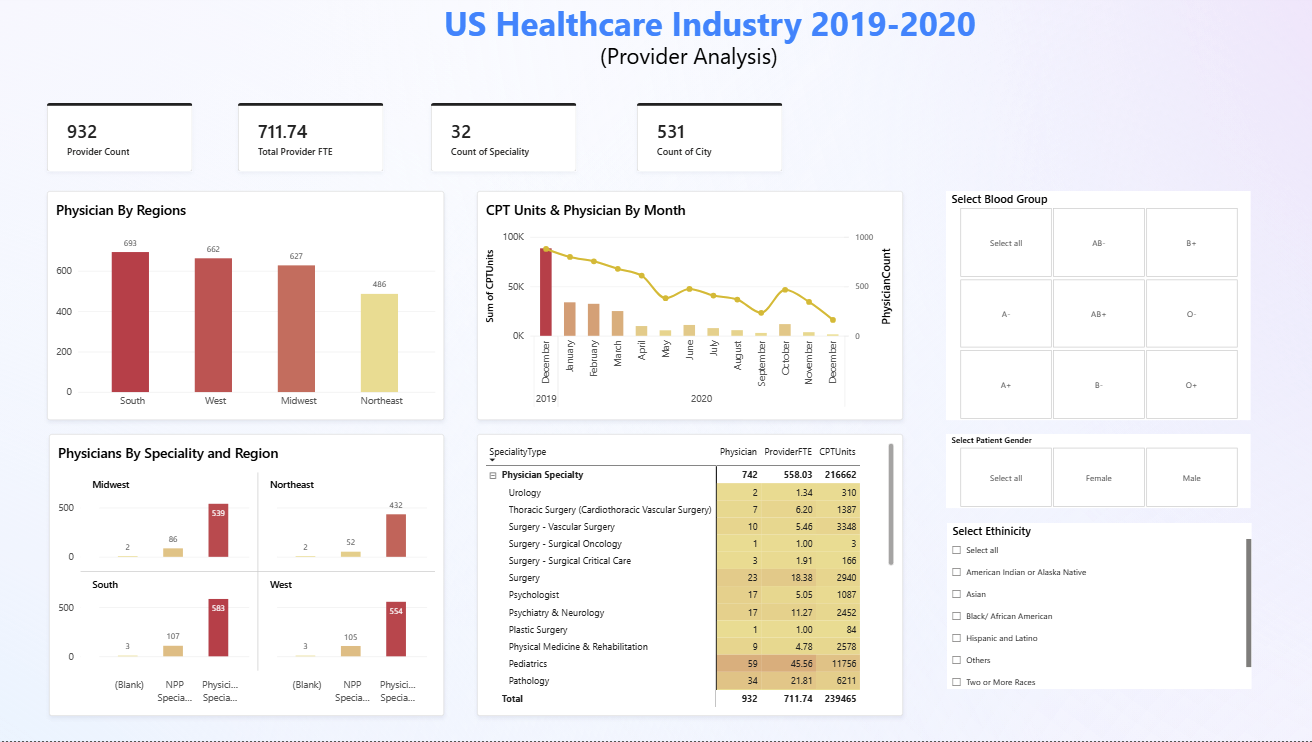

The page's visual inventory and layout, read from the dashboard file:
{"tool":"powerbi","page":{"name":"Provider Analysis","canvas":[1920,1080],"ordinal":3},"visuals":[{"type":"cardVisual","fields":{"Data":["CountNonNull(DimPhyscian.dimPhysicianPK)"]},"box":[74.3,150.1,213,100.3],"z":0},{"type":"textbox","box":[652.8,0,869.1,84.2],"z":1000},{"type":"textbox","box":[880.3,58.3,297.3,72.9],"z":2000},{"type":"cardVisual","fields":{"Data":["Sum(DimPhyscian.ProviderFTE)"]},"box":[352.7,150.1,213,100.3],"z":3000},{"type":"cardVisual","fields":{"Data":["Count(DimPhyscian.SpecialityCode)"]},"box":[634,150.1,213,100.3],"z":4000},{"type":"cardVisual","fields":{"Data":["Count(DimPatient.City)"]},"box":[934.3,150.1,213,100.3],"z":5000},{"type":"clusteredColumnChart","title":"Physician By Regions","fields":{"Category":["FactTable.Region Code"],"Y":["Measure / Calculations.PhysicianCount"]},"box":[74.3,278.4,579.3,334],"z":6000},{"type":"lineClusteredColumnComboChart","title":"CPT Units & Physician By Month","fields":{"Category":["DimDate.Start_Of_Month.Variation.Date Hierarchy.Year","DimDate.Start_Of_Month.Variation.Date Hierarchy.Month"],"Y":["Sum(FactTable.CPTUnits)"],"Y2":["Measure / Calculations.PhysicianCount"]},"box":[701.1,278.4,621.4,334],"z":7000},{"type":"clusteredColumnChart","title":"Physicians By Speciality and Region","fields":{"Category":["DimSpeciality.SpecialityType"],"Rows":["FactTable.Region Code"],"Y":["Measure / Calculations.PhysicianCount"]},"box":[77.2,632.6,576.3,410.8],"z":7001},{"type":"pivotTable","fields":{"Rows":["DimSpeciality.SpecialityType","DimSpeciality.ProviderSpecialty"],"Values":["CountNonNull(DimPhyscian.dimPhysicianPK)","Sum(DimPhyscian.ProviderFTE)","Sum(FactTable.CPTUnits)"]},"box":[701.1,632.6,621.4,410.8],"z":7002},{"type":"slicer","fields":{"Values":["DimPatient.BloodGroup"]},"box":[1384.6,278.4,443.9,334],"z":7003},{"type":"slicer","fields":{"Values":["DimPatient.PatientGender"]},"box":[1384.6,632.6,443.9,108.3],"z":7004},{"type":"slicer","fields":{"Values":["DimPatient.Ethinicity"]},"box":[1386.1,762.3,443.9,242.3],"z":7005}]}

Visuals, with their boxes in screenshot pixels (x1, y1, x2, y2), scaled from the page's 1920x1080 canvas onto the 1312x742 screenshot:
cardVisual - CountNonNull(DimPhyscian.dimPhysicianPK): <region>51, 103, 196, 172</region>
textbox: <region>446, 0, 1040, 58</region>
textbox: <region>602, 40, 805, 90</region>
cardVisual - Sum(DimPhyscian.ProviderFTE): <region>241, 103, 387, 172</region>
cardVisual - Count(DimPhyscian.SpecialityCode): <region>433, 103, 579, 172</region>
cardVisual - Count(DimPatient.City): <region>638, 103, 784, 172</region>
"Physician By Regions" clusteredColumnChart: <region>51, 191, 447, 421</region>
"CPT Units & Physician By Month" lineClusteredColumnComboChart: <region>479, 191, 904, 421</region>
"Physicians By Speciality and Region" clusteredColumnChart: <region>53, 435, 447, 717</region>
pivotTable - DimSpeciality.SpecialityType x DimSpeciality.ProviderSpecialty: <region>479, 435, 904, 717</region>
slicer - DimPatient.BloodGroup: <region>946, 191, 1249, 421</region>
slicer - DimPatient.PatientGender: <region>946, 435, 1249, 509</region>
slicer - DimPatient.Ethinicity: <region>947, 524, 1250, 690</region>
